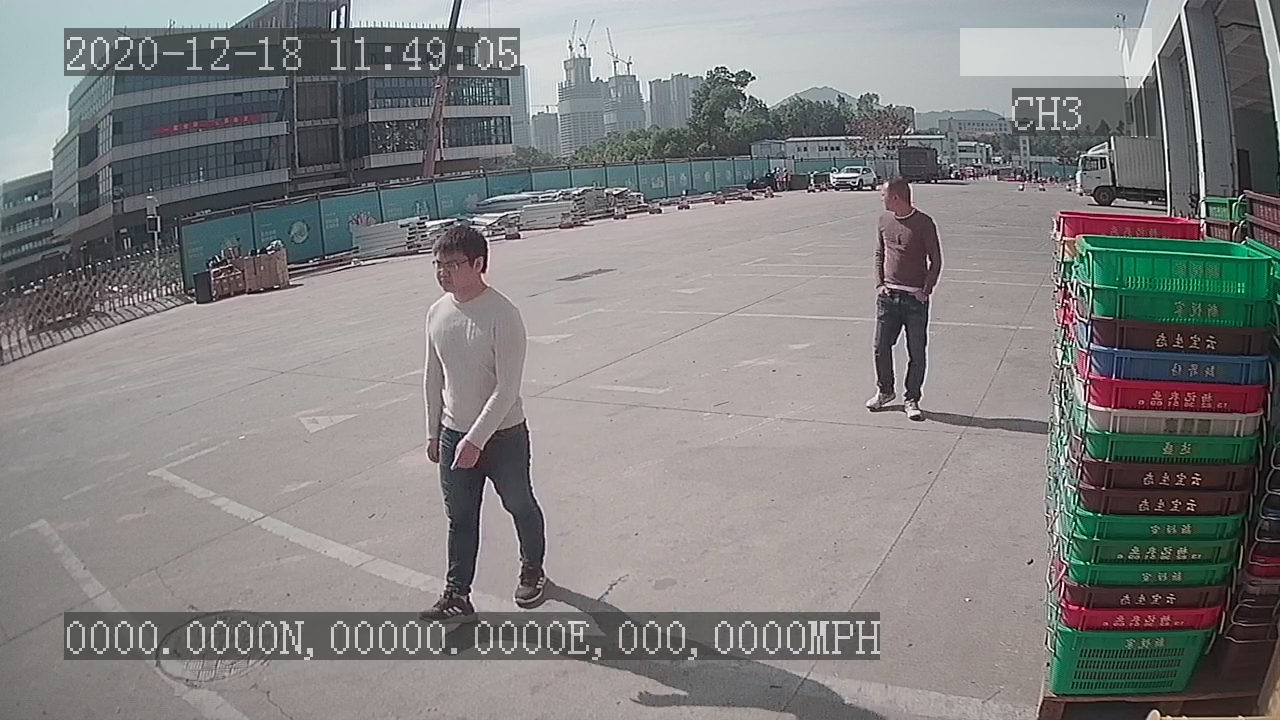person: (863, 174, 945, 422)
